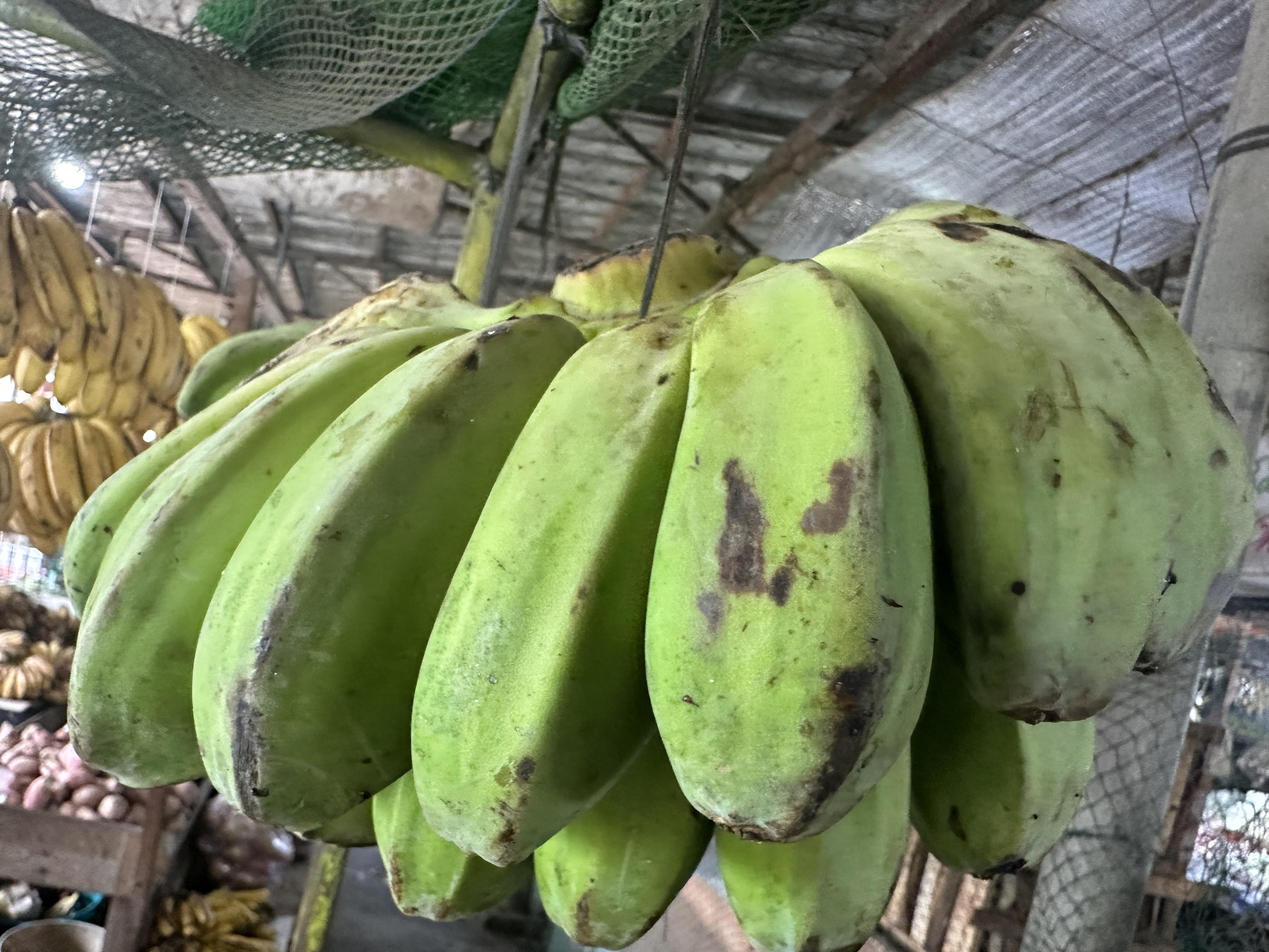underripe: (66, 198, 1248, 952)
